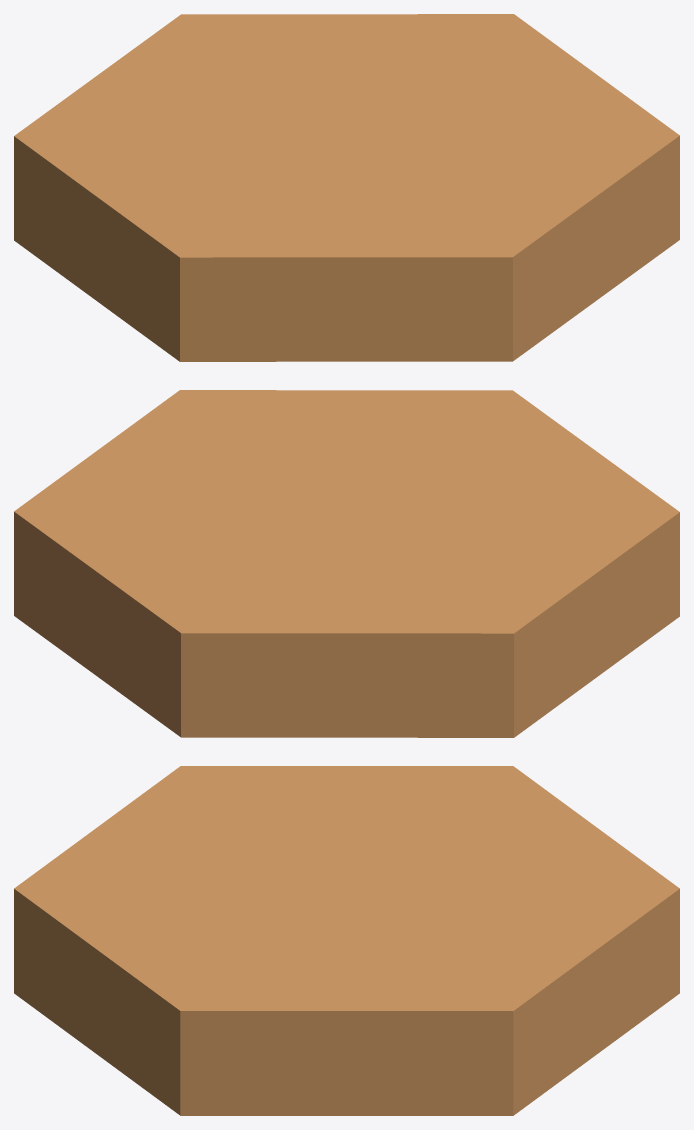
File: Hex7.fbx
3 views of the same model, one above another, from view 1: azimuth 30°, elevation 25°; view 2: azimuth 150°, elevation 25°; view 3: azimuth 270°, elevation 25° (orthographic).
Visible parts, largest first — view 1: Hex7; view 2: Hex7; view 3: Hex7.
Part boxes in pixels (bbox=[...]): Hex7: bbox=[14, 14, 679, 361]; Hex7: bbox=[14, 390, 679, 737]; Hex7: bbox=[14, 766, 679, 1115].
Bounding box in the file's own units: 1 × 0.2003 × 1.15.
